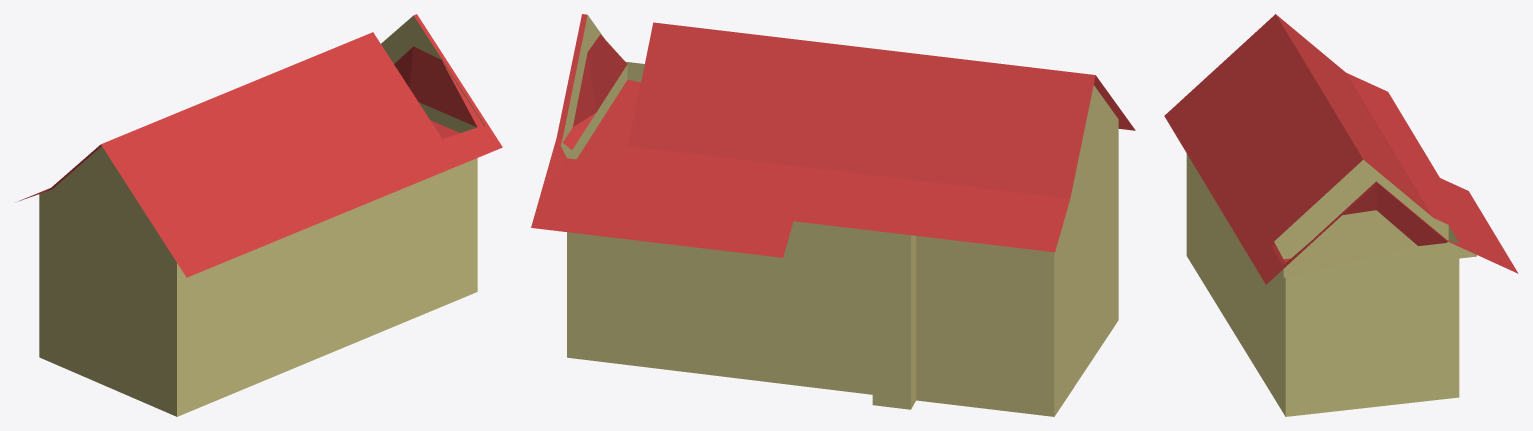
3 renders of one model, left to right at view 1: azimuth 30°, elevation 25°; view 2: azimuth 150°, elevation 25°; view 3: azimuth 270°, elevation 25°, orthographic. The views are drawn at different scales.
Size of the model in its own units: 25.99 by 20.16 by 14.35.
